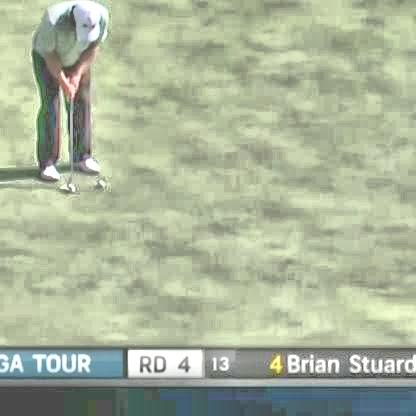golfball: (95, 176, 102, 186)
